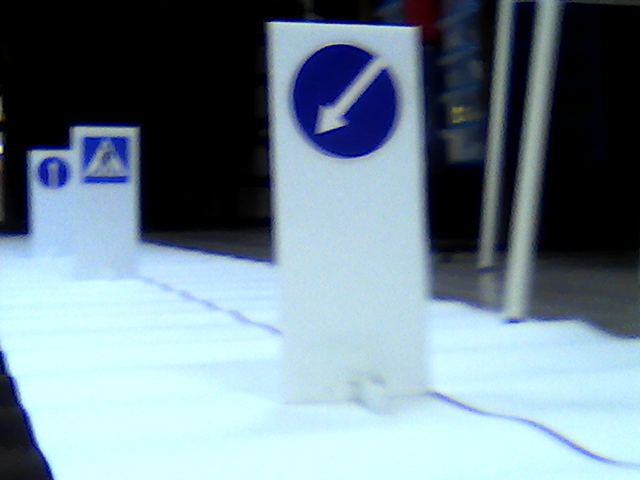forw: (36, 156, 69, 189)
prep: (292, 45, 400, 160)
